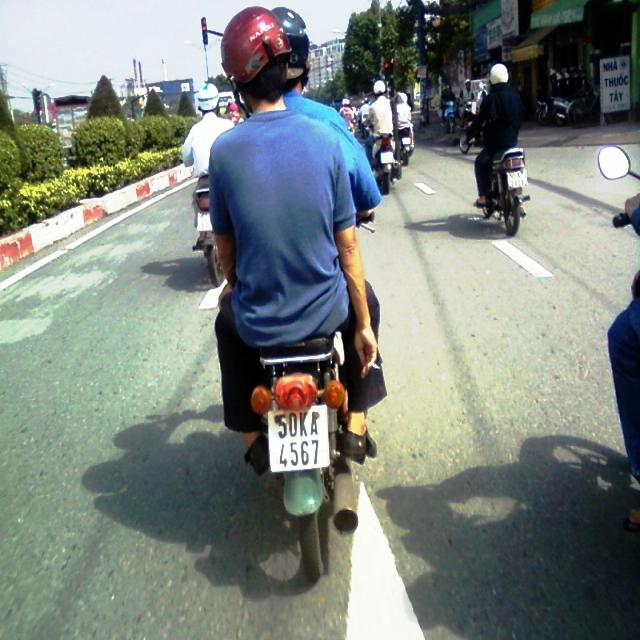license_plate: (269, 404, 331, 468)
